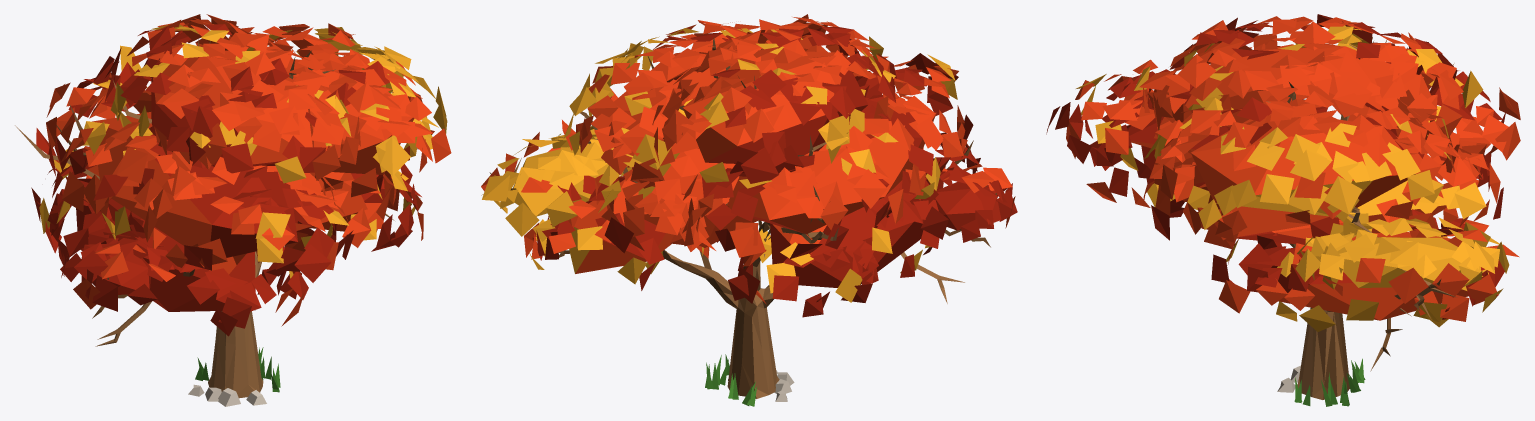
Rendered from maple_autumn.glb.
3 renders of one model, left to right at view 1: azimuth 30°, elevation 25°; view 2: azimuth 150°, elevation 25°; view 3: azimuth 270°, elevation 25°, orthographic. The views are drawn at different scales.
Parts seen in each view (by area): view 1: maple_autumn; view 2: maple_autumn; view 3: maple_autumn.
Boxes of the visible parts, bbox=[...] form: maple_autumn: bbox=[15, 14, 451, 406]; maple_autumn: bbox=[481, 14, 1017, 406]; maple_autumn: bbox=[1046, 14, 1520, 406].
Bounding box in the file's own units: 8.29 × 6.6 × 7.96.
